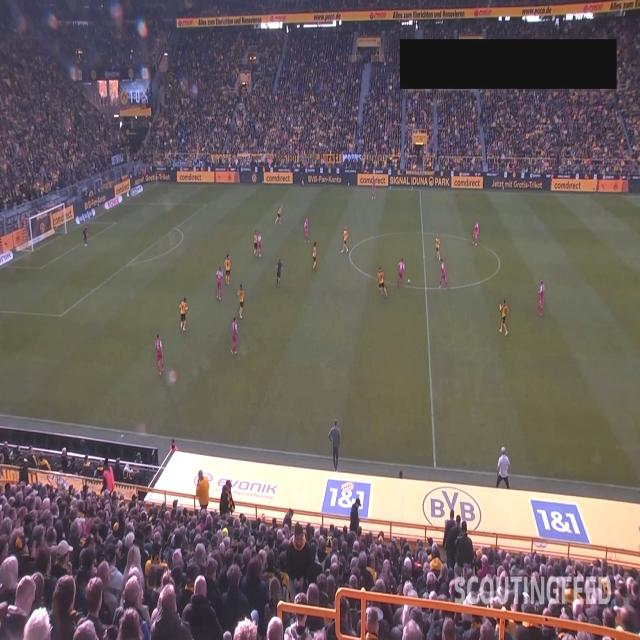ball: (406, 276, 412, 286)
f_player: (152, 331, 166, 378), (224, 246, 234, 294), (436, 257, 451, 288), (231, 306, 239, 364), (180, 295, 191, 331), (81, 216, 91, 255), (338, 226, 350, 258), (538, 278, 548, 315), (310, 240, 320, 276), (500, 300, 510, 334), (432, 230, 444, 258), (236, 284, 246, 316), (274, 202, 284, 234), (217, 263, 224, 308), (370, 170, 378, 206), (397, 258, 407, 286), (378, 268, 388, 296), (252, 231, 262, 259), (302, 214, 310, 248), (471, 218, 479, 251)
umpire: (275, 260, 283, 288)
